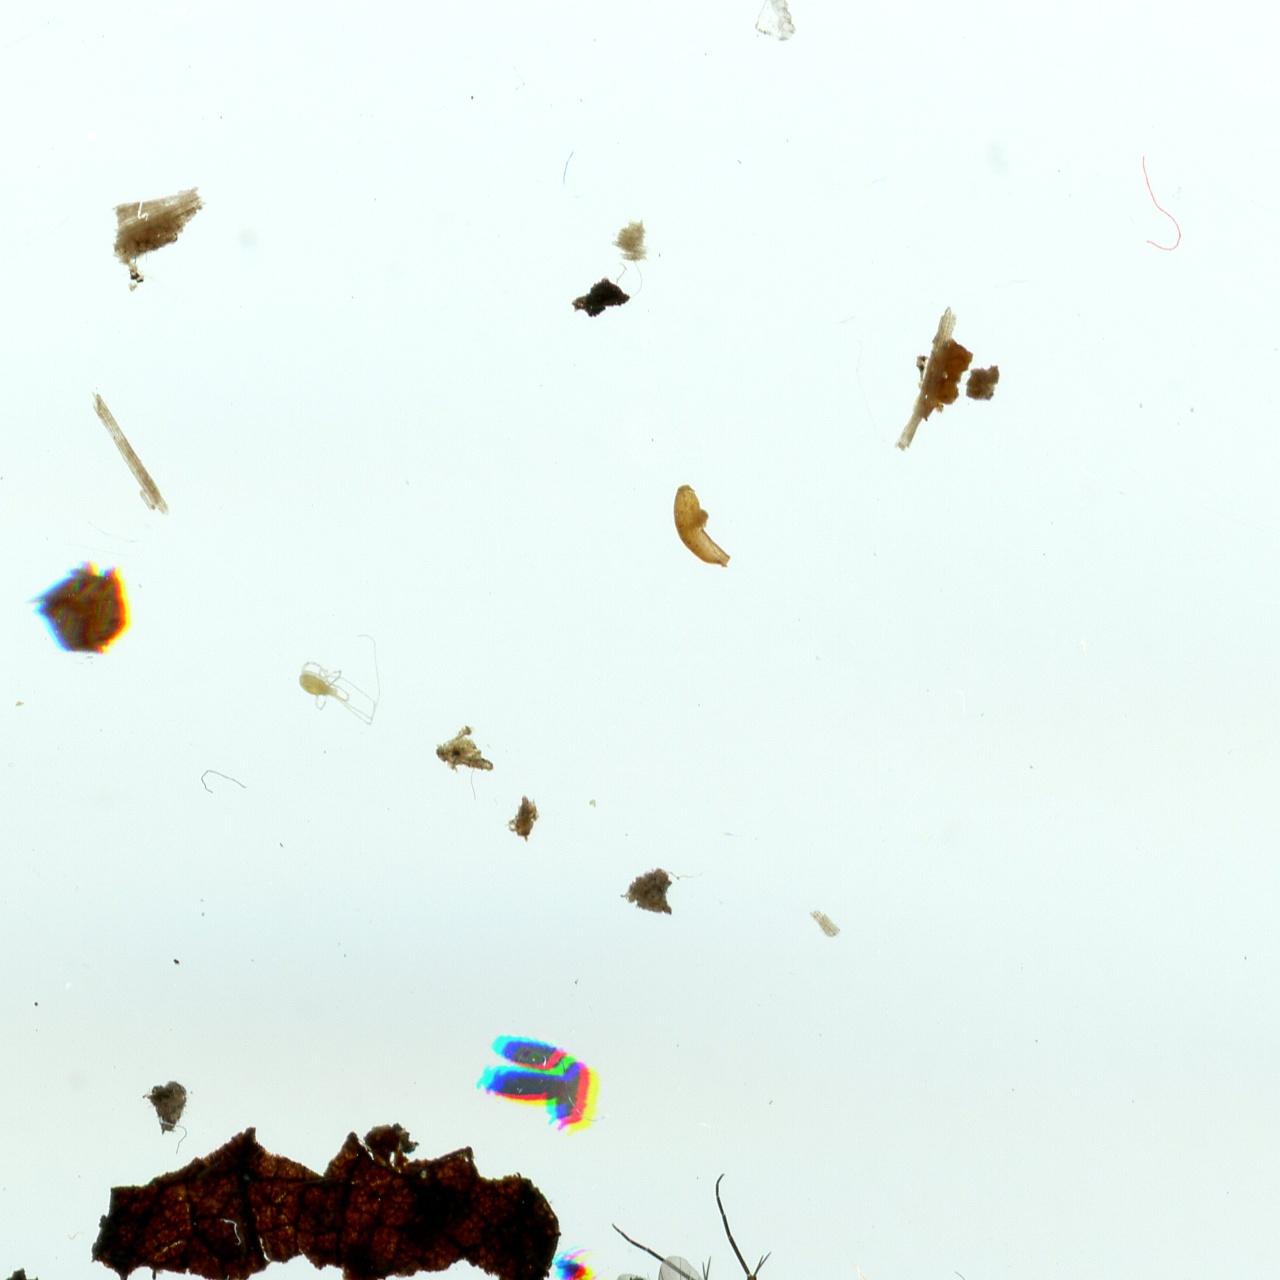arthropod: (604, 1165, 957, 1280), (294, 629, 383, 728), (473, 1060, 563, 1108), (552, 1056, 598, 1135), (497, 1032, 571, 1079), (554, 1246, 608, 1280)
